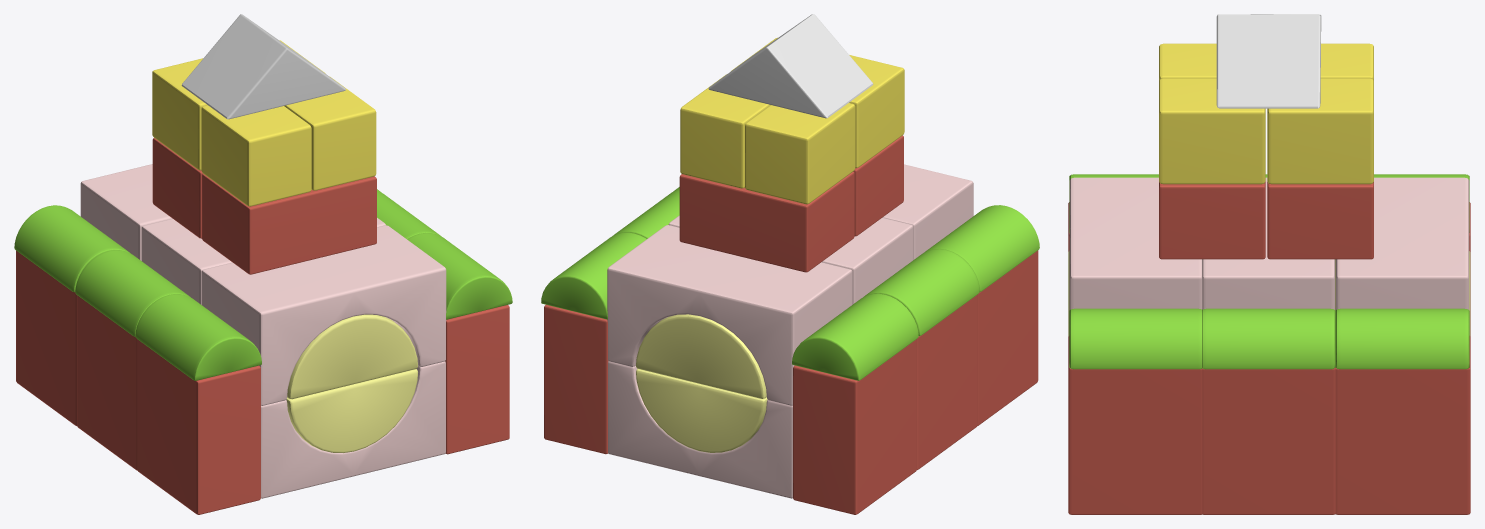
The model's file is Building2.fbx.
3 renders of one model, left to right at view 1: azimuth 30°, elevation 25°; view 2: azimuth 150°, elevation 25°; view 3: azimuth 270°, elevation 25°, orthographic. The views are drawn at different scales.
Visible parts, largest first — view 1: B2_ingame; view 2: B2_ingame; view 3: B2_ingame.
Boxes of the visible parts, <box> form: B2_ingame: <box>14,14,512,514</box>; B2_ingame: <box>541,14,1039,514</box>; B2_ingame: <box>1068,14,1470,514</box>.
Size of the model in its own units: 150 by 171 by 149.
